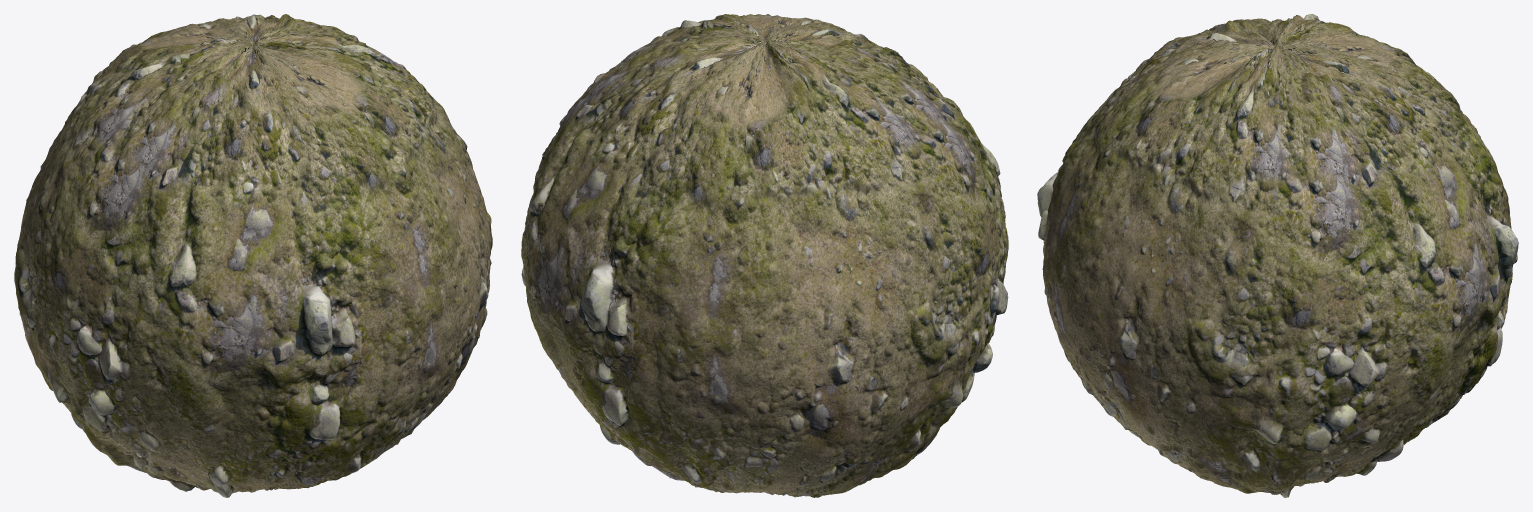
Rendered from planet1.gltf.
3 renders of one model, left to right at view 1: azimuth 30°, elevation 25°; view 2: azimuth 150°, elevation 25°; view 3: azimuth 270°, elevation 25°, orthographic. The views are drawn at different scales.
Visible parts, largest first — view 1: sphere_gltf; view 2: sphere_gltf; view 3: sphere_gltf.
Part boxes in pixels (<box>): sphere_gltf: <box>14,14,492,497</box>; sphere_gltf: <box>521,14,1008,497</box>; sphere_gltf: <box>1037,14,1518,497</box>.
Bounding box in the file's own units: 78.93 × 79.63 × 80.85.
Materials: 1 (1 with a texture image).
